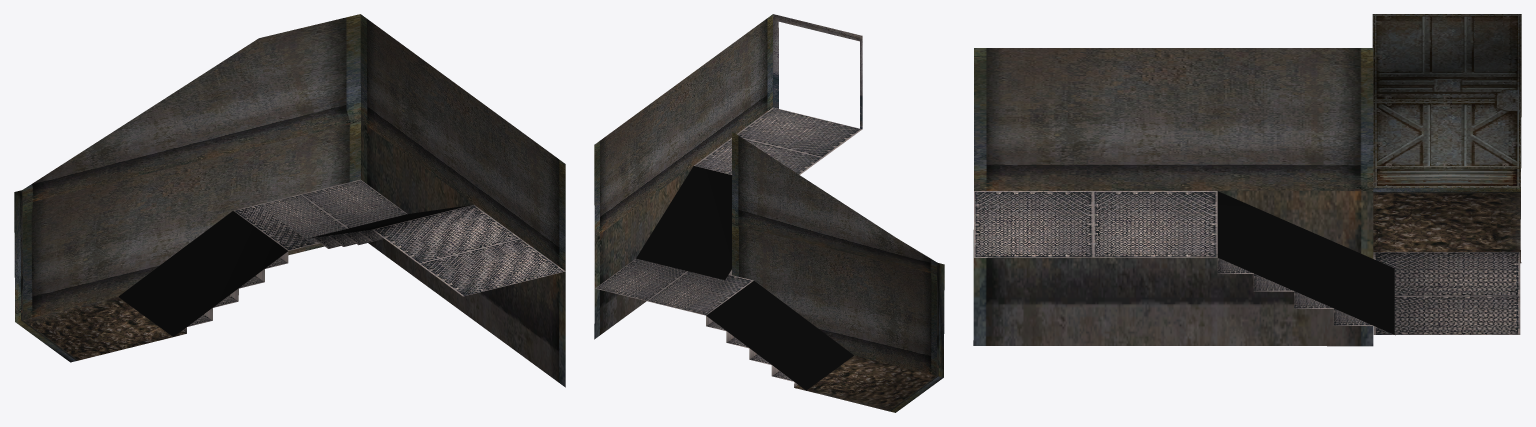
File: M11Sewer_Entrance02.glb
3 renders of one model, left to right at view 1: azimuth 30°, elevation 25°; view 2: azimuth 150°, elevation 25°; view 3: azimuth 270°, elevation 25°, orthographic. The views are drawn at different scales.
Parts seen in each view (by area): view 1: M11SEWER_ENTRANCE02; view 2: M11SEWER_ENTRANCE02; view 3: M11SEWER_ENTRANCE02.
Part boxes in pixels (x1,y1,x2,y2): M11SEWER_ENTRANCE02: [14, 14, 565, 387]; M11SEWER_ENTRANCE02: [594, 14, 944, 412]; M11SEWER_ENTRANCE02: [973, 14, 1521, 346].
Size of the model in its own units: 6.85 by 4.23 by 7.03.
7 materials, 6 textured.
